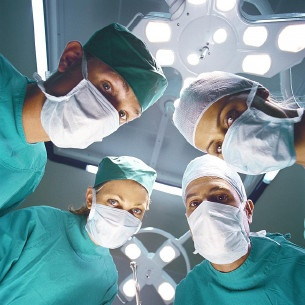Mask: (183, 189, 258, 264)
